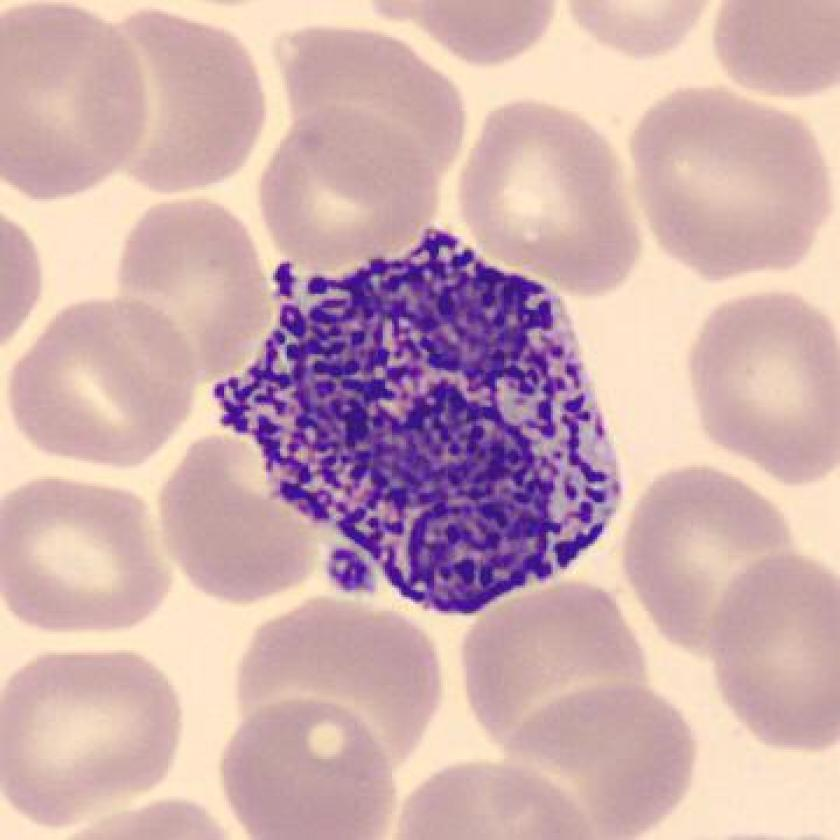basophil: (209, 226, 638, 621)
